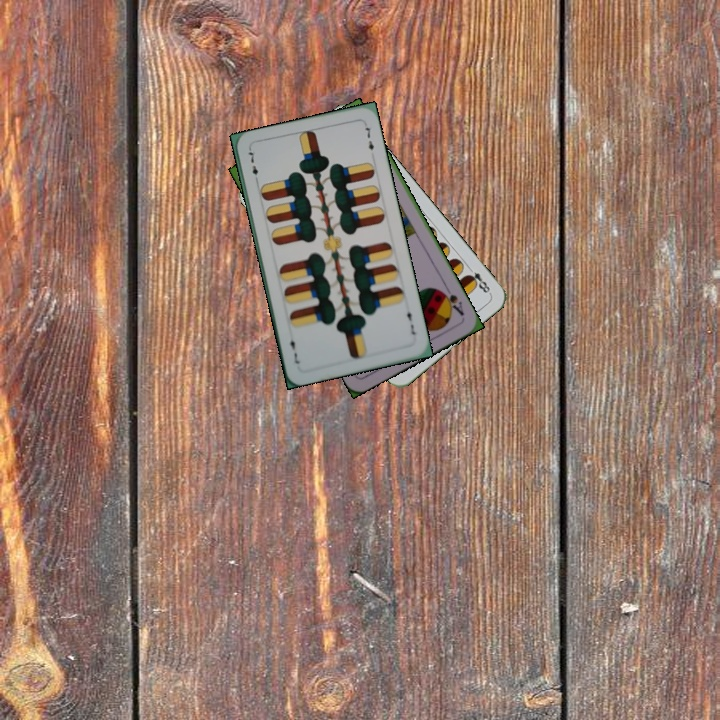E7: (244, 145, 261, 186), (403, 303, 418, 337)
E8: (463, 262, 493, 297)
SA: (436, 286, 466, 318)
